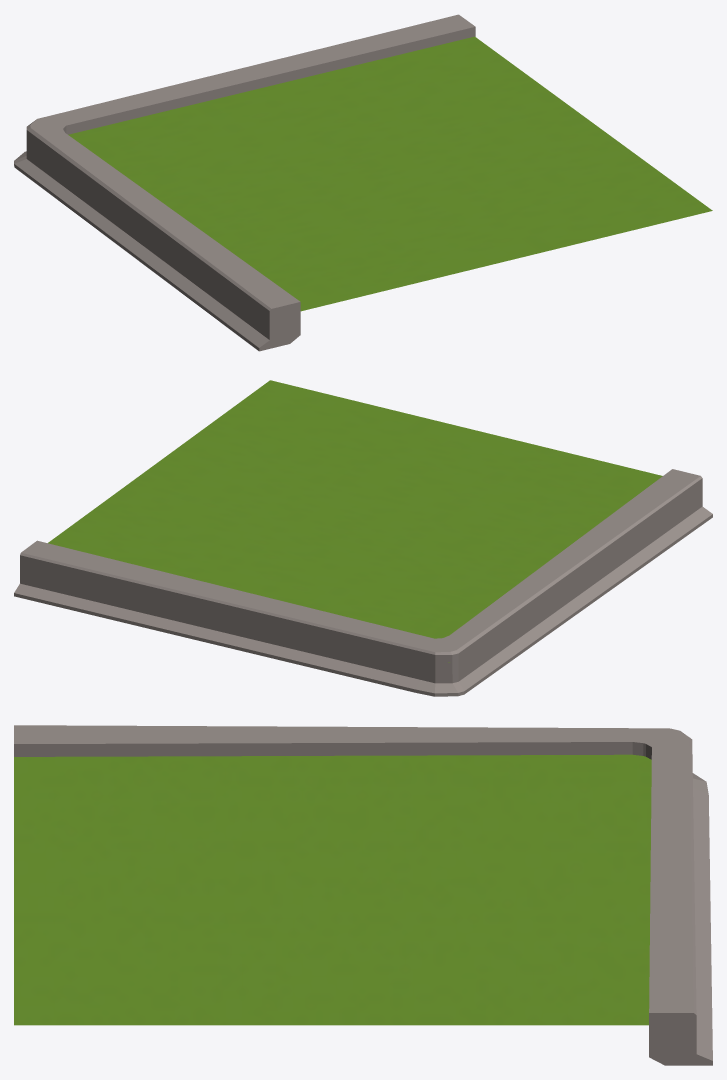
The model's file is GrassPlane_04.fbx.
The picture shows the model from 3 angles, top to bottom: view 1: azimuth 30°, elevation 25°; view 2: azimuth 150°, elevation 25°; view 3: azimuth 270°, elevation 25°; orthographic projection. The views are drawn at different scales.
Visible parts, largest first — view 1: GrassPlane_04; view 2: GrassPlane_04; view 3: GrassPlane_04.
Part boxes in pixels (left/top/right/bottom): GrassPlane_04: left=14, top=14, right=712, bottom=351; GrassPlane_04: left=14, top=380, right=712, bottom=696; GrassPlane_04: left=14, top=725, right=712, bottom=1065.
Size of the model in its own units: 6.27 by 0.5208 by 6.26.
